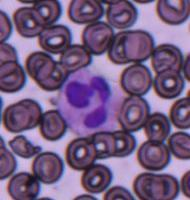N: (58, 68, 124, 137)
